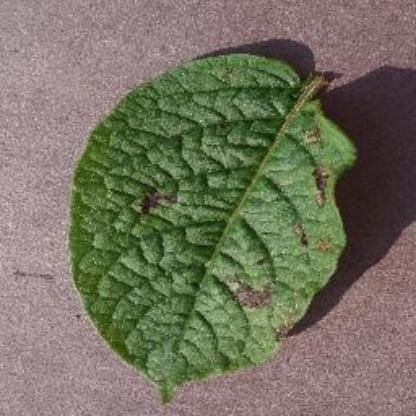Late-Blight: (67, 46, 358, 402)
